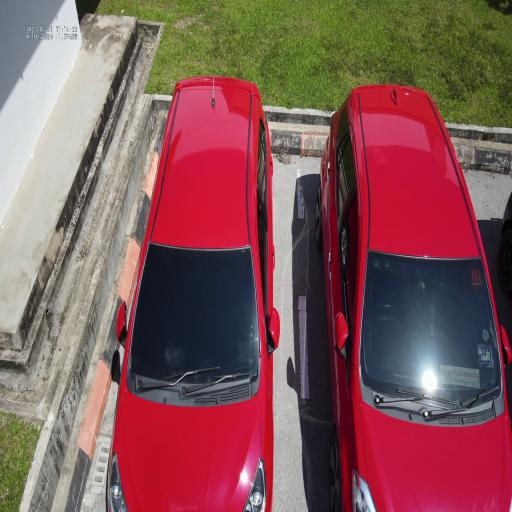Occupied: (53, 135, 323, 512)
